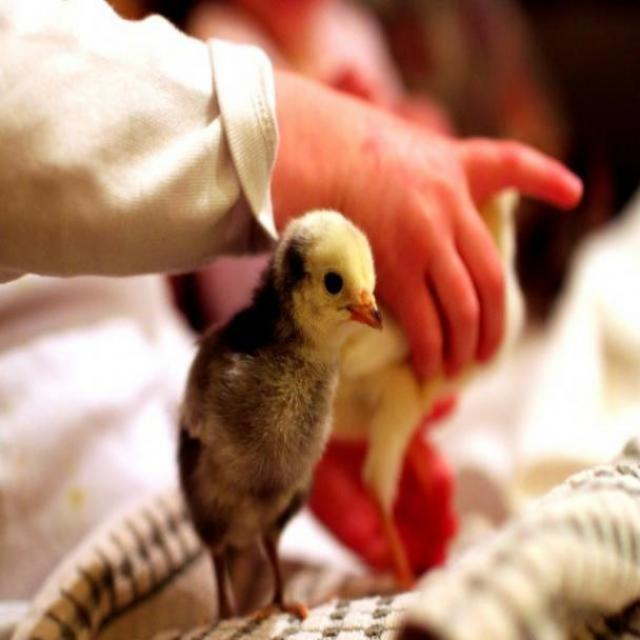Chicken: (148, 213, 374, 622)
